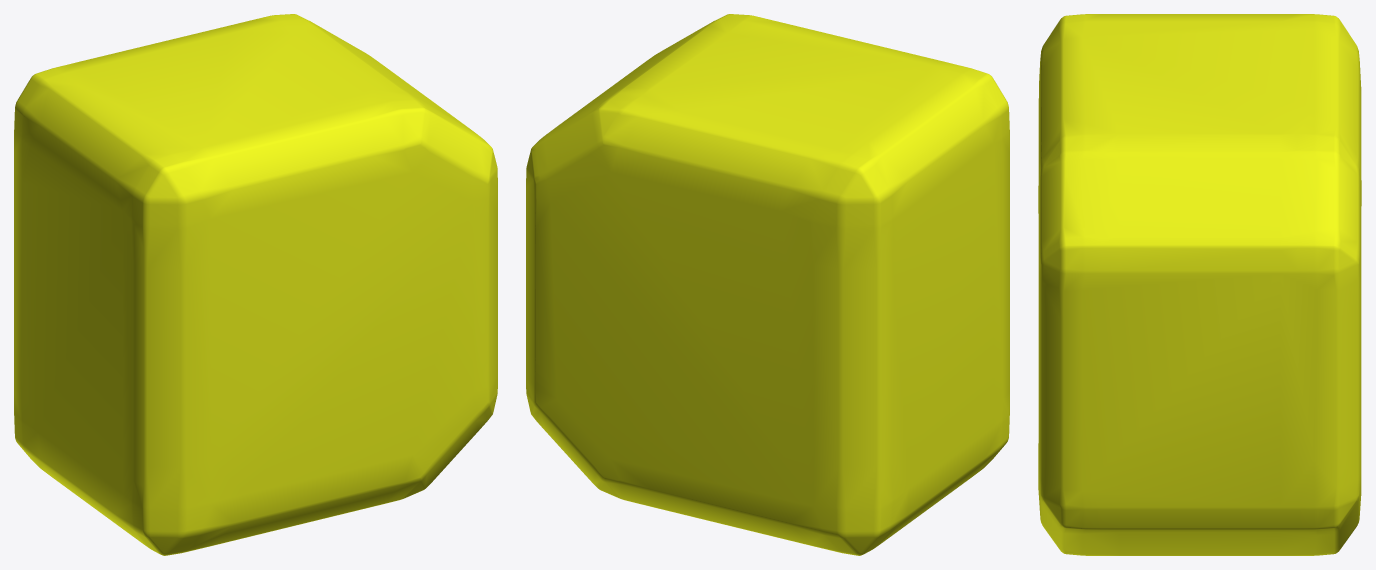
The model's file is membre6.fbx.
3 renders of one model, left to right at view 1: azimuth 30°, elevation 25°; view 2: azimuth 150°, elevation 25°; view 3: azimuth 270°, elevation 25°, orthographic. The views are drawn at different scales.
Visible parts, largest first — view 1: membre6; view 2: membre6; view 3: membre6.
Part boxes in pixels (left/top/right/bottom): membre6: left=14, top=14, right=497, bottom=555; membre6: left=526, top=14, right=1009, bottom=555; membre6: left=1038, top=14, right=1361, bottom=555.
Size of the model in its own units: 131 by 138 by 97.1.
